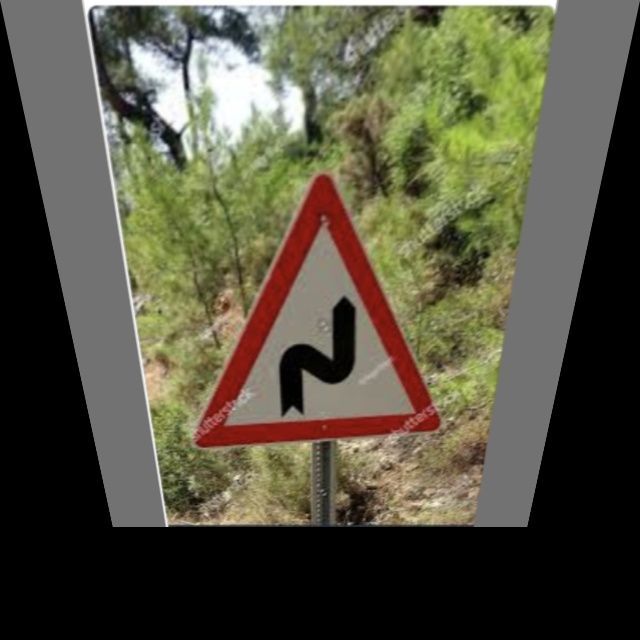Right_Reverse_Bend: (159, 171, 468, 434)
